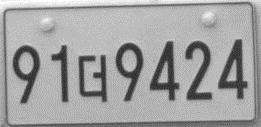1: (44, 44, 78, 104)
2: (184, 40, 213, 102)
4: (215, 38, 250, 100), (148, 40, 181, 102)
9: (114, 42, 146, 103), (11, 44, 42, 105)
더: (77, 54, 109, 103)
